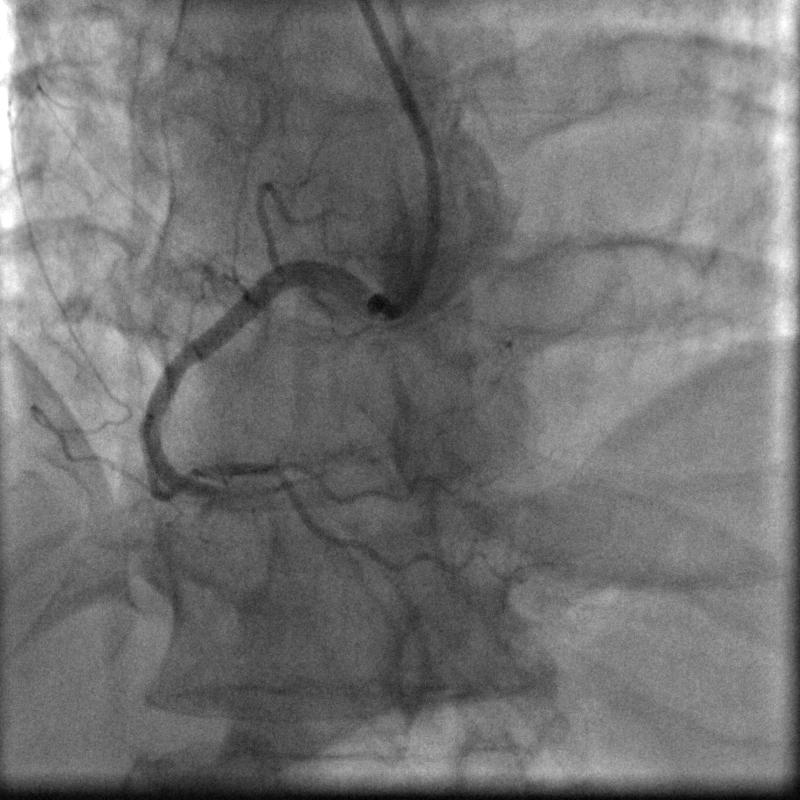Stenosis: (180, 472, 243, 504)
